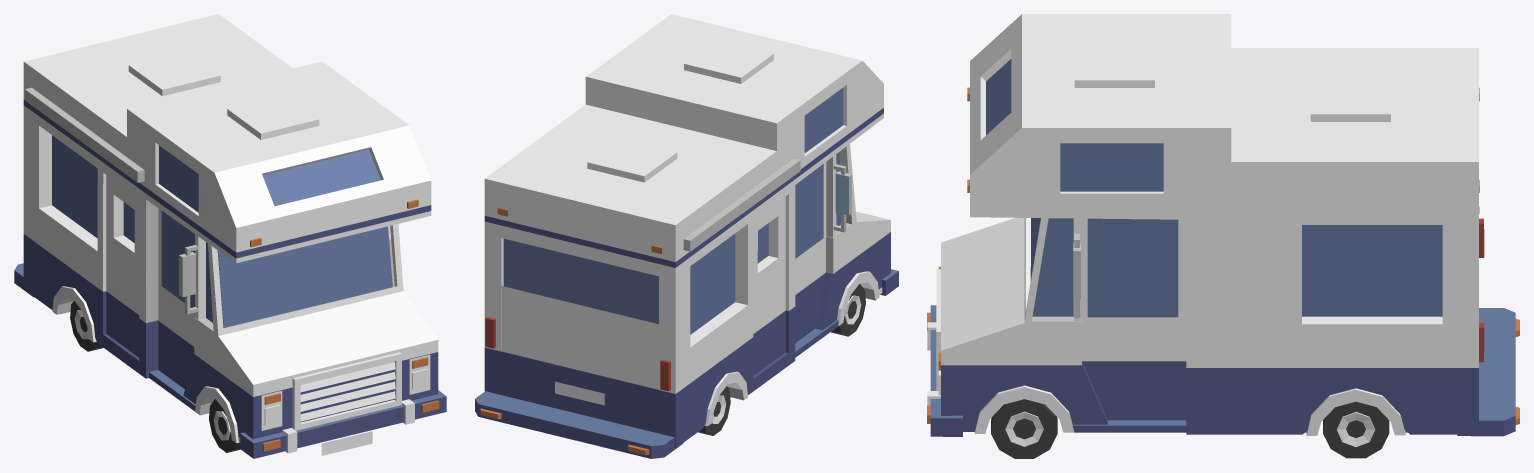
File: transport_bus_008.fbx
3 renders of one model, left to right at view 1: azimuth 30°, elevation 25°; view 2: azimuth 150°, elevation 25°; view 3: azimuth 270°, elevation 25°, orthographic. The views are drawn at different scales.
Visible parts, largest first — view 1: transport_bus_008; view 2: transport_bus_008; view 3: transport_bus_008.
Boxes of the visible parts, bbox=[...] form: transport_bus_008: bbox=[14, 14, 446, 458]; transport_bus_008: bbox=[475, 14, 898, 458]; transport_bus_008: bbox=[927, 14, 1519, 458].
Bounding box in the file's own units: 202 × 257 × 400.
